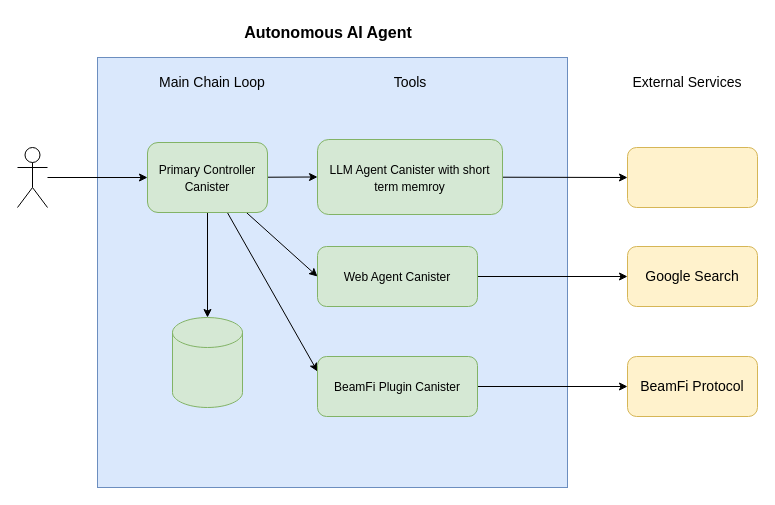
This 775x505 diagram has some shape labels left out. The shapes that lost their labels are listed below. From the top down, each one's box as (x1, y1, x2, y2) in pixels, then its label:
(16, 146, 48, 208): User
(626, 146, 758, 208): OpenAI GPT-4
(172, 316, 242, 408): Vector Store Canister
